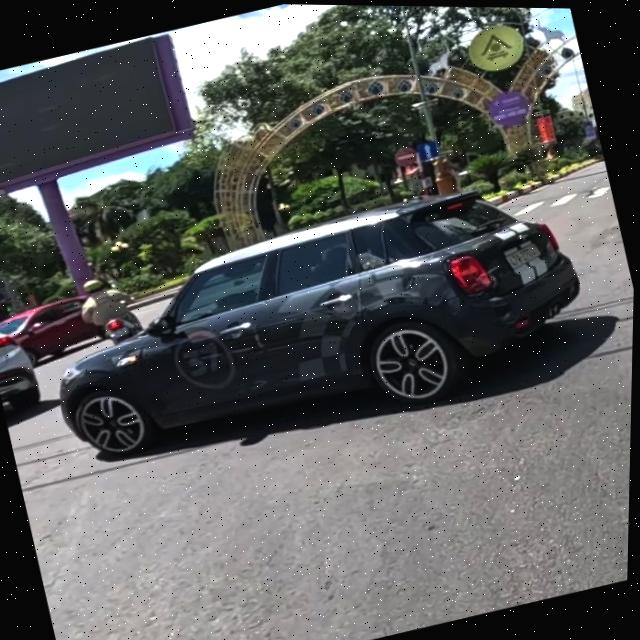car: (24, 163, 617, 501)
plate: (494, 235, 556, 276)
